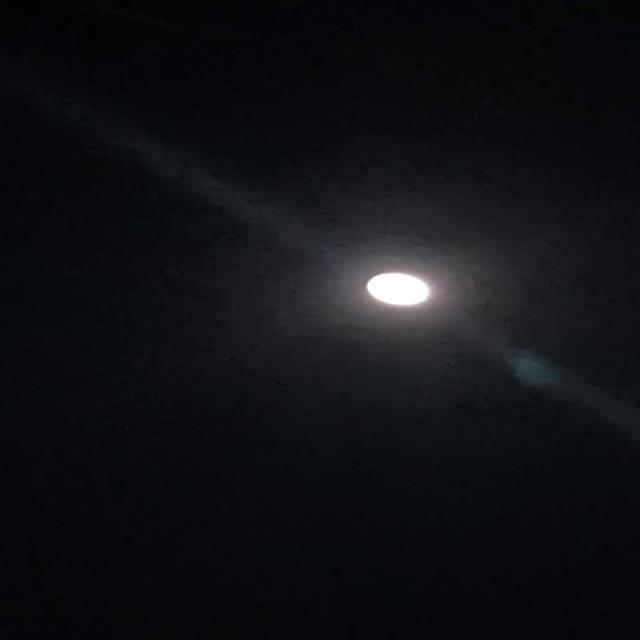moon: (328, 248, 456, 320)
